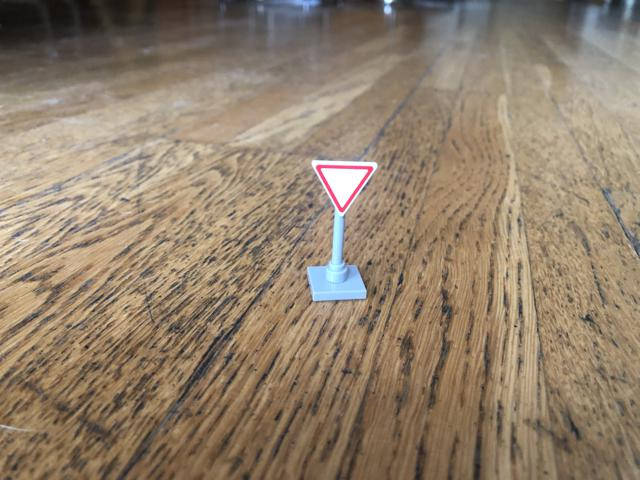vorfahrt gewähren: (311, 159, 382, 214)
